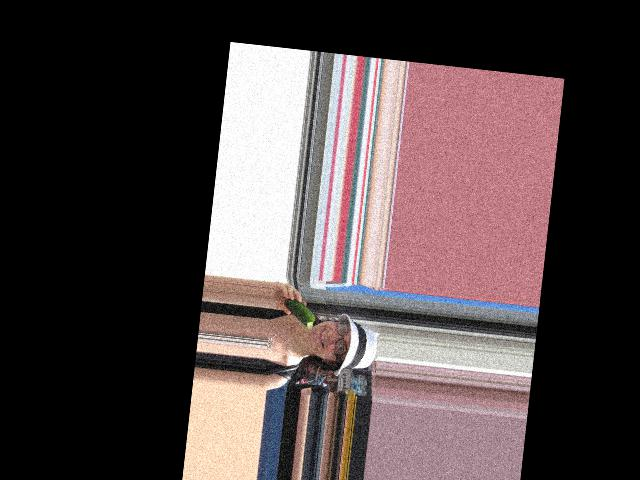cucumber: (281, 297, 316, 328)
